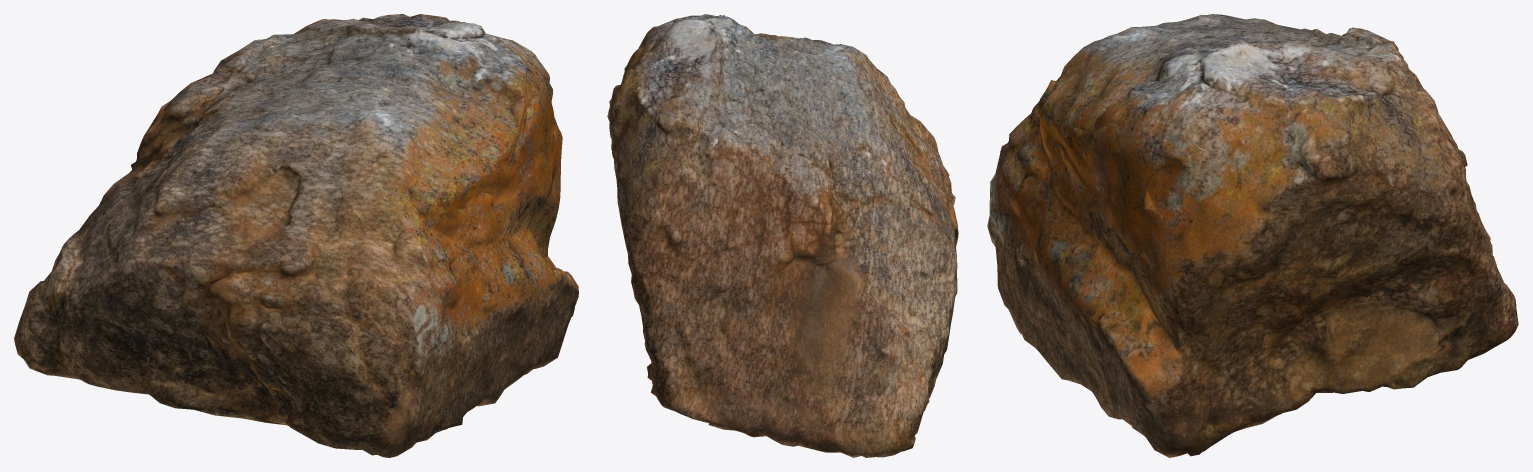
File: namaqualand_boulder_04.glb
3 views of the same model, side by side, from view 1: azimuth 30°, elevation 25°; view 2: azimuth 150°, elevation 25°; view 3: azimuth 270°, elevation 25° (orthographic). The views are drawn at different scales.
Parts seen in each view (by area): view 1: boulder_04; view 2: boulder_04; view 3: boulder_04.
Boxes of the visible parts, bbox=[...] form: boulder_04: bbox=[14, 14, 578, 457]; boulder_04: bbox=[607, 14, 958, 457]; boulder_04: bbox=[987, 14, 1518, 457].
Size of the model in its own units: 2.52 by 1.9 by 2.49.
Materials: 1 (1 with a texture image).
